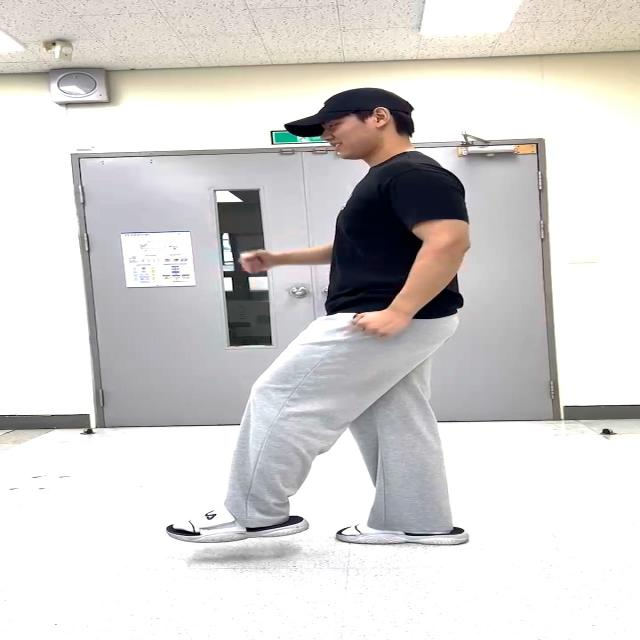leg: (214, 307, 368, 535)
